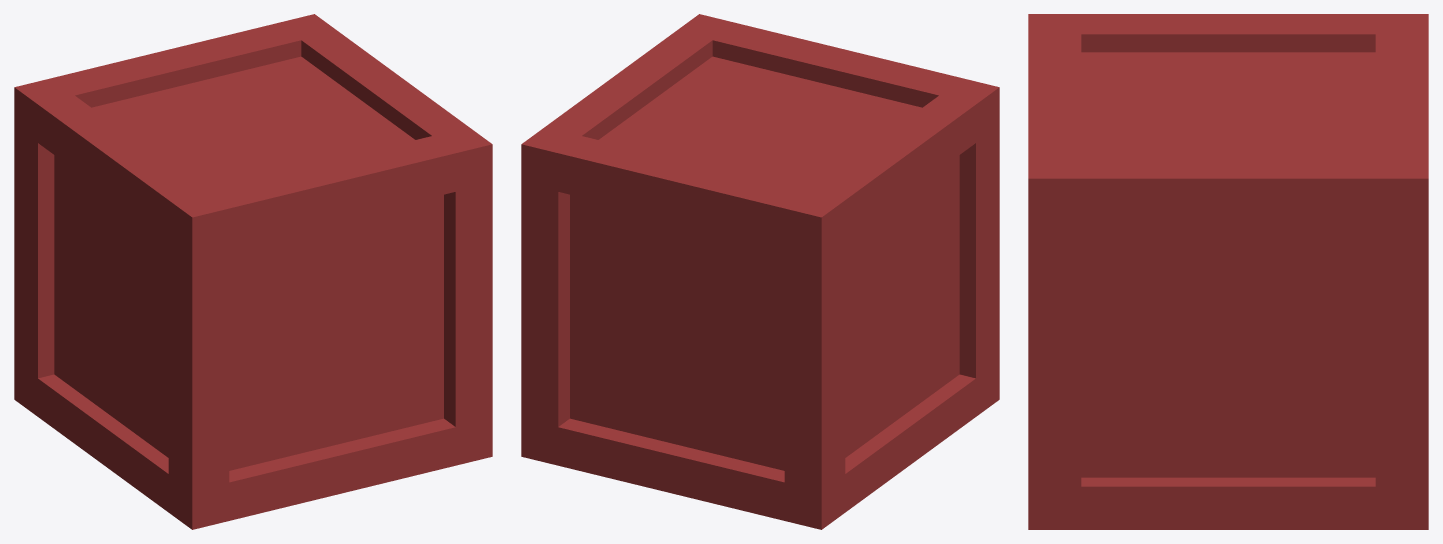
Rendered from CrateA_1.fbx.
The picture shows the model from 3 angles, left to right: view 1: azimuth 30°, elevation 25°; view 2: azimuth 150°, elevation 25°; view 3: azimuth 270°, elevation 25°; orthographic projection. The views are drawn at different scales.
Visible parts, largest first — view 1: Crate; view 2: Crate; view 3: Crate.
Boxes of the visible parts, left/top/right/bottom form: Crate: left=14, top=14, right=492, bottom=529; Crate: left=521, top=14, right=999, bottom=529; Crate: left=1028, top=14, right=1428, bottom=529.
Bounding box in the file's own units: 237 × 236 × 244.
